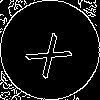X: (25, 25, 81, 80)
